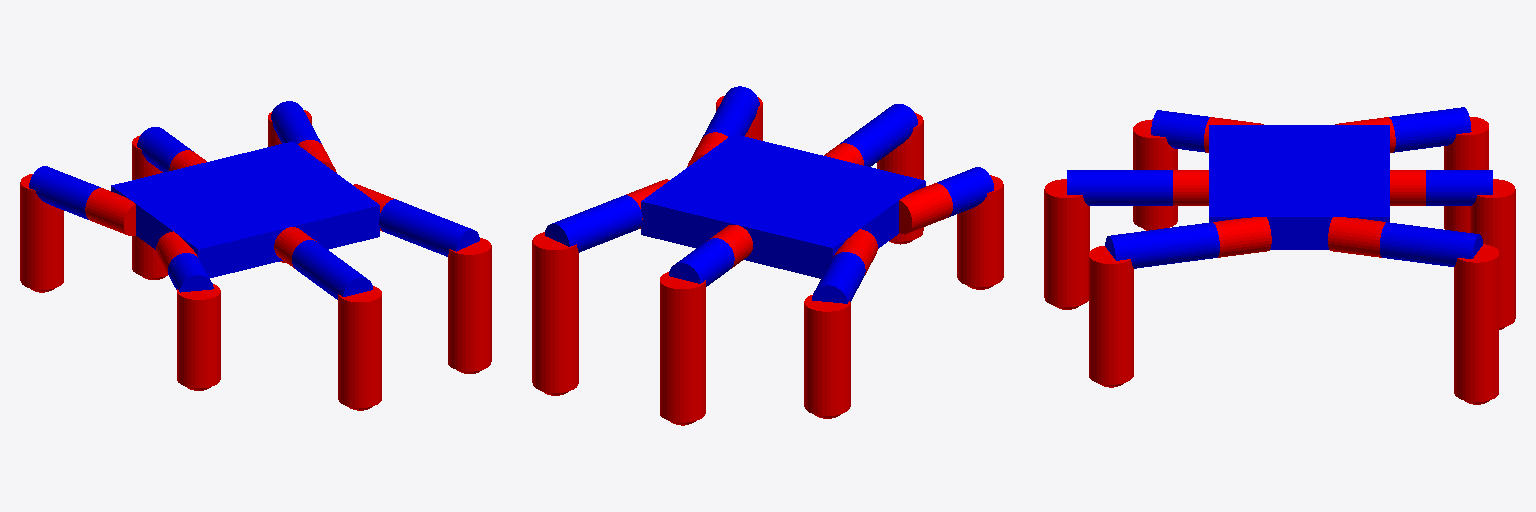
--- Facts derived from the render (not from the file) ---
3 views of the same robot in one strip: view 1: azimuth 30°, elevation 25°; view 2: azimuth 150°, elevation 25°; view 3: azimuth 270°, elevation 25° (orthographic).
Model pexod with 19 links and 18 joints (18 revolute), rooted at base_link, posed every joint at zero.
Links seen in each view (by area): view 1: base_link, leg_3_3, leg_4_3, leg_5_3, leg_0_3, leg_3_2, leg_4_2, leg_0_2, leg_0_1, leg_1_3, leg_2_2, leg_1_2 (+3 smaller); view 2: base_link, leg_2_3, leg_1_3, leg_0_3, leg_5_3, leg_2_2, leg_4_2, leg_5_1, leg_1_2, leg_0_2, leg_4_3, leg_3_2 (+3 smaller); view 3: base_link, leg_2_3, leg_3_3, leg_4_3, leg_1_3, leg_3_2, leg_4_2, leg_2_2, leg_5_3, leg_0_2, leg_0_3, leg_1_2 (+5 smaller).
Boxes of the visible links, x1,y1,x2,y2 form: base_link: (111, 141, 379, 277); leg_3_3: (448, 238, 491, 373); leg_4_3: (338, 286, 381, 410); leg_5_3: (177, 284, 220, 390); leg_0_3: (20, 174, 63, 292); leg_3_2: (379, 199, 479, 256); leg_4_2: (292, 240, 372, 299); leg_0_2: (29, 166, 100, 219); leg_0_1: (85, 188, 135, 235); leg_1_3: (132, 135, 167, 279); leg_2_2: (271, 101, 321, 144); leg_1_2: (137, 127, 193, 172); base_link: (641, 134, 925, 278); leg_2_3: (532, 232, 578, 395); leg_1_3: (660, 272, 705, 425); leg_0_3: (804, 295, 850, 418); leg_5_3: (957, 175, 1003, 289); leg_2_2: (545, 195, 641, 252); leg_4_2: (840, 104, 917, 166); leg_5_1: (899, 183, 952, 234); leg_1_2: (669, 238, 734, 286); leg_0_2: (812, 252, 865, 303); leg_4_3: (877, 112, 923, 244); leg_3_2: (702, 86, 759, 137); base_link: (1209, 125, 1389, 249); leg_2_3: (1454, 244, 1498, 404); leg_3_3: (1089, 246, 1133, 387); leg_4_3: (1044, 179, 1089, 309); leg_1_3: (1470, 179, 1515, 329); leg_3_2: (1105, 222, 1219, 268); leg_4_2: (1067, 170, 1172, 205); leg_2_2: (1380, 222, 1482, 266); leg_5_3: (1133, 119, 1177, 230); leg_0_2: (1389, 107, 1471, 152); leg_0_3: (1444, 116, 1488, 232); leg_1_2: (1426, 170, 1492, 205).
Bounding box of the posed robot: 0.3868 × 0.5212 × 0.2028 m (x, y, z).
Geometry: primitives only (box / cylinder / sphere), no mesh files.

robot.urdf — pexod:
<?xml version="1.0" ?>
<!-- =================================================================================== -->
<!-- |    This document was autogenerated by xacro from pexod.xacro                    | -->
<!-- |    EDITING THIS FILE BY HAND IS NOT RECOMMENDED                                 | -->
<!-- =================================================================================== -->
<robot name="pexod" xmlns:xacro="http://www.ros.org/wiki/xacro">
  <!-- <xacro:include filename="$(find pexod_description)/urdf/pexod_control.xacro" /> -->
  <!-- MATERIALS -->
  <material name="Blue">
    <color rgba="0 0 1 1"/>
  </material>
  <material name="Red">
    <color rgba="1 0 0 1"/>
  </material>
  <material name="Green">
    <color rgba="0 1 0 1"/>
  </material>
  <material name="Yellow">
    <color rgba="1 1 0 1"/>
  </material>
  <material name="LightGrey">
    <color rgba="0.6 0.6 0.6 1.0"/>
  </material>
  <!-- END OF MATERIALS -->
  <!-- XACRO MACROS FOR VISUALS AND COLLISIONS -->
  <!-- END OF XACRO MACROS -->
  <!-- TORSO -->
  <link name="base_link">
    <visual>
      <origin rpy="0 0 0" xyz="0 0 0"/>
      <geometry>
        <box size="0.24 0.2 0.04"/>
      </geometry>
      <material name="Blue"/>
    </visual>
    <collision>
      <origin rpy="0 0 0" xyz="0 0 0"/>
      <geometry>
        <box size="0.24 0.2 0.04"/>
      </geometry>
    </collision>
    <inertial>
      <!-- CENTER OF MASS -->
      <origin rpy="0 0 0" xyz="0 0 0"/>
      <mass value="1.031"/>
      <!-- box inertia: 1/12*m(y^2+z^2), ... -->
      <inertia ixx="0.00357413333333" ixy="0" ixz="0" iyy="0.00508626666667" iyz="0" izz="0.00838546666667"/>
    </inertial>
  </link>
  <!-- XACRO MACRO FOR LEGS LINKS/JOINTS -->
  <!-- END OF LEG LINKS/JOINTS -->
  <joint name="body_leg_2" type="revolute">
    <parent link="base_link"/>
    <child link="leg_2_1"/>
    <limit effort="30.0" lower="-1.57079632679" upper="1.57079632679" velocity="7.0"/>
    <origin rpy="0 0 -0.3" xyz="0.11 0.04 0"/>
    <!-- <xacro:if value="${index == 5 or index == 4 or index == 3}">
                <axis xyz="0 0 1"/>
            </xacro:if>
            <xacro:if value="${index == 2 or index == 1 or index == 0}"> -->
    <axis xyz="0 0 1"/>
    <!-- </xacro:if> -->
    <dynamics damping="0.0"/>
  </joint>
  <link name="leg_2_1">
    <visual>
      <origin rpy="1.57079632679 0 0" xyz="0.01 0.03 0"/>
      <geometry>
        <cylinder length="0.06" radius="0.02"/>
      </geometry>
      <material name="Red"/>
    </visual>
    <collision>
      <origin rpy="1.57079632679 0 0" xyz="0.01 0.03 0"/>
      <geometry>
        <box size="0.02 0.02 0.06"/>
      </geometry>
    </collision>
    <inertial>
      <!-- CENTER OF MASS -->
      <origin rpy="1.57079632679 0 0" xyz="0.01 0.03 0"/>
      <mass value="0.02"/>
      <!-- box inertia: 1/12*m(y^2+z^2), ... -->
      <inertia ixx="6.66666666667e-06" ixy="0" ixz="0" iyy="6.66666666667e-06" iyz="0" izz="1.33333333333e-06"/>
    </inertial>
  </link>
  <joint name="leg_2_1_2" type="revolute">
    <parent link="leg_2_1"/>
    <child link="leg_2_2"/>
    <limit effort="30.0" lower="-0.78539816339" upper="0.78539816339" velocity="7.0"/>
    <origin rpy="0 0 0" xyz="0 0.06 0"/>
    <axis xyz="1 0 0"/>
    <dynamics damping="0.0"/>
  </joint>
  <link name="leg_2_2">
    <visual>
      <origin rpy="1.57079632679 0 0" xyz="0.01 0.0535875029155 0"/>
      <geometry>
        <cylinder length="0.107175005831" radius="0.02"/>
      </geometry>
      <material name="Blue"/>
    </visual>
    <collision>
      <origin rpy="1.57079632679 0 0" xyz="0.01 0.0535875029155 0"/>
      <geometry>
        <box size="0.02 0.02 0.107175005831"/>
      </geometry>
    </collision>
    <inertial>
      <!-- CENTER OF MASS -->
      <origin rpy="1.57079632679 0 0" xyz="0.01 0.0535875029155 0"/>
      <mass value="0.184"/>
      <!-- box inertia: 1/12*m(y^2+z^2), ... -->
      <inertia ixx="0.000182259388748" ixy="0" ixz="0" iyy="0.000182259388748" iyz="0" izz="1.22666666667e-05"/>
    </inertial>
  </link>
  <joint name="leg_2_2_3" type="revolute">
    <parent link="leg_2_2"/>
    <child link="leg_2_3"/>
    <limit effort="30.0" lower="-0.78539816339" upper="0.78539816339" velocity="7.0"/>
    <origin rpy="-1.57079632679 0 0" xyz="0 0.107175005831 0"/>
    <axis xyz="-1 0 0"/>
    <dynamics damping="0.0"/>
  </joint>
  <link name="leg_2_3">
    <visual>
      <origin rpy="1.57079632679 0 0" xyz="0.0125 0.0851546288125 0"/>
      <geometry>
        <cylinder length="0.170309257625" radius="0.025"/>
      </geometry>
      <material name="Red"/>
    </visual>
    <visual>
      <origin rpy="1.57079632679 0 0" xyz="0.0125 0.157809257625 0"/>
      <geometry>
        <sphere radius="0.025"/>
      </geometry>
      <material name="Red"/>
    </visual>
    <collision>
      <origin rpy="1.57079632679 0 0" xyz="0.0125 0.0851546288125 0"/>
      <geometry>
        <box size="0.025 0.025 0.170309257625"/>
      </geometry>
    </collision>
    <collision>
      <origin rpy="1.57079632679 0 0" xyz="0.0125 0.157809257625 0"/>
      <geometry>
        <sphere radius="0.025"/>
      </geometry>
      <material name="Red"/>
    </collision>
    <inertial>
      <!-- CENTER OF MASS -->
      <origin rpy="1.57079632679 0 0" xyz="0.0125 0.0851546288125 0"/>
      <mass value="0.04"/>
      <!-- box inertia: 1/12*m(y^2+z^2), ... -->
      <inertia ixx="9.87674774426e-05" ixy="0" ixz="0" iyy="9.87674774426e-05" iyz="0" izz="4.16666666667e-06"/>
    </inertial>
  </link>
  <joint name="body_leg_3" type="revolute">
    <parent link="base_link"/>
    <child link="leg_3_1"/>
    <limit effort="30.0" lower="-1.57079632679" upper="1.57079632679" velocity="7.0"/>
    <origin rpy="0 0 0.3" xyz="0.11 -0.04 0"/>
    <!-- <xacro:if value="${index == 5 or index == 4 or index == 3}">
                <axis xyz="0 0 1"/>
            </xacro:if>
            <xacro:if value="${index == 2 or index == 1 or index == 0}"> -->
    <axis xyz="0 0 1"/>
    <!-- </xacro:if> -->
    <dynamics damping="0.0"/>
  </joint>
  <link name="leg_3_1">
    <visual>
      <origin rpy="1.57079632679 0 0" xyz="0.01 -0.03 0"/>
      <geometry>
        <cylinder length="0.06" radius="0.02"/>
      </geometry>
      <material name="Red"/>
    </visual>
    <collision>
      <origin rpy="1.57079632679 0 0" xyz="0.01 -0.03 0"/>
      <geometry>
        <box size="0.02 0.02 0.06"/>
      </geometry>
    </collision>
    <inertial>
      <!-- CENTER OF MASS -->
      <origin rpy="1.57079632679 0 0" xyz="0.01 -0.03 0"/>
      <mass value="0.02"/>
      <!-- box inertia: 1/12*m(y^2+z^2), ... -->
      <inertia ixx="6.66666666667e-06" ixy="0" ixz="0" iyy="6.66666666667e-06" iyz="0" izz="1.33333333333e-06"/>
    </inertial>
  </link>
  <joint name="leg_3_1_2" type="revolute">
    <parent link="leg_3_1"/>
    <child link="leg_3_2"/>
    <limit effort="30.0" lower="-0.78539816339" upper="0.78539816339" velocity="7.0"/>
    <origin rpy="0 0 0" xyz="0 -0.06 0"/>
    <axis xyz="-1 0 0"/>
    <dynamics damping="0.0"/>
  </joint>
  <link name="leg_3_2">
    <visual>
      <origin rpy="1.57079632679 0 0" xyz="0.01 -0.0602308605965 0"/>
      <geometry>
        <cylinder length="0.120461721193" radius="0.02"/>
      </geometry>
      <material name="Blue"/>
    </visual>
    <collision>
      <origin rpy="1.57079632679 0 0" xyz="0.01 -0.0602308605965 0"/>
      <geometry>
        <box size="0.02 0.02 0.120461721193"/>
      </geometry>
    </collision>
    <inertial>
      <!-- CENTER OF MASS -->
      <origin rpy="1.57079632679 0 0" xyz="0.01 -0.0602308605965 0"/>
      <mass value="0.184"/>
      <!-- box inertia: 1/12*m(y^2+z^2), ... -->
      <inertia ixx="0.000228635736183" ixy="0" ixz="0" iyy="0.000228635736183" iyz="0" izz="1.22666666667e-05"/>
    </inertial>
  </link>
  <joint name="leg_3_2_3" type="revolute">
    <parent link="leg_3_2"/>
    <child link="leg_3_3"/>
    <limit effort="30.0" lower="-0.78539816339" upper="0.78539816339" velocity="7.0"/>
    <origin rpy="1.57079632679 0 0" xyz="0 -0.120461721193 0"/>
    <axis xyz="1 0 0"/>
    <dynamics damping="0.0"/>
  </joint>
  <link name="leg_3_3">
    <visual>
      <origin rpy="1.57079632679 0 0" xyz="0.0125 -0.0736898227685 0"/>
      <geometry>
        <cylinder length="0.147379645537" radius="0.025"/>
      </geometry>
      <material name="Red"/>
    </visual>
    <visual>
      <origin rpy="1.57079632679 0 0" xyz="0.0125 -0.134879645537 0"/>
      <geometry>
        <sphere radius="0.025"/>
      </geometry>
      <material name="Red"/>
    </visual>
    <collision>
      <origin rpy="1.57079632679 0 0" xyz="0.0125 -0.0736898227685 0"/>
      <geometry>
        <box size="0.025 0.025 0.147379645537"/>
      </geometry>
    </collision>
    <collision>
      <origin rpy="1.57079632679 0 0" xyz="0.0125 -0.134879645537 0"/>
      <geometry>
        <sphere radius="0.025"/>
      </geometry>
      <material name="Red"/>
    </collision>
    <inertial>
      <!-- CENTER OF MASS -->
      <origin rpy="1.57079632679 0 0" xyz="0.0125 -0.0736898227685 0"/>
      <mass value="0.04"/>
      <!-- box inertia: 1/12*m(y^2+z^2), ... -->
      <inertia ixx="7.44858663954e-05" ixy="0" ixz="0" iyy="7.44858663954e-05" iyz="0" izz="4.16666666667e-06"/>
    </inertial>
  </link>
  <joint name="body_leg_0" type="revolute">
    <parent link="base_link"/>
    <child link="leg_0_1"/>
    <limit effort="30.0" lower="-1.57079632679" upper="1.57079632679" velocity="7.0"/>
    <origin rpy="0 0 0.3" xyz="-0.13 0.04 0"/>
    <!-- <xacro:if value="${index == 5 or index == 4 or index == 3}">
                <axis xyz="0 0 1"/>
            </xacro:if>
            <xacro:if value="${index == 2 or index == 1 or index == 0}"> -->
    <axis xyz="0 0 1"/>
    <!-- </xacro:if> -->
    <dynamics damping="0.0"/>
  </joint>
  <link name="leg_0_1">
    <visual>
      <origin rpy="1.57079632679 0 0" xyz="0.01 0.03 0"/>
      <geometry>
        <cylinder length="0.06" radius="0.02"/>
      </geometry>
      <material name="Red"/>
    </visual>
    <collision>
      <origin rpy="1.57079632679 0 0" xyz="0.01 0.03 0"/>
      <geometry>
        <box size="0.02 0.02 0.06"/>
      </geometry>
    </collision>
    <inertial>
      <!-- CENTER OF MASS -->
      <origin rpy="1.57079632679 0 0" xyz="0.01 0.03 0"/>
      <mass value="0.02"/>
      <!-- box inertia: 1/12*m(y^2+z^2), ... -->
      <inertia ixx="6.66666666667e-06" ixy="0" ixz="0" iyy="6.66666666667e-06" iyz="0" izz="1.33333333333e-06"/>
    </inertial>
  </link>
  <joint name="leg_0_1_2" type="revolute">
    <parent link="leg_0_1"/>
    <child link="leg_0_2"/>
    <limit effort="30.0" lower="-0.78539816339" upper="0.78539816339" velocity="7.0"/>
    <origin rpy="0 0 0" xyz="0 0.06 0"/>
    <axis xyz="1 0 0"/>
    <dynamics damping="0.0"/>
  </joint>
  <link name="leg_0_2">
    <visual>
      <origin rpy="1.57079632679 0 0" xyz="0.01 0.0438803386066 0"/>
      <geometry>
        <cylinder length="0.0877606772131" radius="0.02"/>
      </geometry>
      <material name="Blue"/>
    </visual>
    <collision>
      <origin rpy="1.57079632679 0 0" xyz="0.01 0.0438803386066 0"/>
      <geometry>
        <box size="0.02 0.02 0.0877606772131"/>
      </geometry>
    </collision>
    <inertial>
      <!-- CENTER OF MASS -->
      <origin rpy="1.57079632679 0 0" xyz="0.01 0.0438803386066 0"/>
      <mass value="0.184"/>
      <!-- box inertia: 1/12*m(y^2+z^2), ... -->
      <inertia ixx="0.000124229692462" ixy="0" ixz="0" iyy="0.000124229692462" iyz="0" izz="1.22666666667e-05"/>
    </inertial>
  </link>
  <joint name="leg_0_2_3" type="revolute">
    <parent link="leg_0_2"/>
    <child link="leg_0_3"/>
    <limit effort="30.0" lower="-0.78539816339" upper="0.78539816339" velocity="7.0"/>
    <origin rpy="-1.57079632679 0 0" xyz="0 0.0877606772131 0"/>
    <axis xyz="-1 0 0"/>
    <dynamics damping="0.0"/>
  </joint>
  <link name="leg_0_3">
    <visual>
      <origin rpy="1.57079632679 0 0" xyz="0.0125 0.062331074075 0"/>
      <geometry>
        <cylinder length="0.12466214815" radius="0.025"/>
      </geometry>
      <material name="Red"/>
    </visual>
    <visual>
      <origin rpy="1.57079632679 0 0" xyz="0.0125 0.11216214815 0"/>
      <geometry>
        <sphere radius="0.025"/>
      </geometry>
      <material name="Red"/>
    </visual>
    <collision>
      <origin rpy="1.57079632679 0 0" xyz="0.0125 0.062331074075 0"/>
      <geometry>
        <box size="0.025 0.025 0.12466214815"/>
      </geometry>
    </collision>
    <collision>
      <origin rpy="1.57079632679 0 0" xyz="0.0125 0.11216214815 0"/>
      <geometry>
        <sphere radius="0.025"/>
      </geometry>
      <material name="Red"/>
    </collision>
    <inertial>
      <!-- CENTER OF MASS -->
      <origin rpy="1.57079632679 0 0" xyz="0.0125 0.062331074075 0"/>
      <mass value="0.04"/>
      <!-- box inertia: 1/12*m(y^2+z^2), ... -->
      <inertia ixx="5.38855039379e-05" ixy="0" ixz="0" iyy="5.38855039379e-05" iyz="0" izz="4.16666666667e-06"/>
    </inertial>
  </link>
  <joint name="body_leg_5" type="revolute">
    <parent link="base_link"/>
    <child link="leg_5_1"/>
    <limit effort="30.0" lower="-1.57079632679" upper="1.57079632679" velocity="7.0"/>
    <origin rpy="0 0 -0.3" xyz="-0.13 -0.04 0"/>
    <!-- <xacro:if value="${index == 5 or index == 4 or index == 3}">
                <axis xyz="0 0 1"/>
            </xacro:if>
            <xacro:if value="${index == 2 or index == 1 or index == 0}"> -->
    <axis xyz="0 0 1"/>
    <!-- </xacro:if> -->
    <dynamics damping="0.0"/>
  </joint>
  <link name="leg_5_1">
    <visual>
      <origin rpy="1.57079632679 0 0" xyz="0.01 -0.03 0"/>
      <geometry>
        <cylinder length="0.06" radius="0.02"/>
      </geometry>
      <material name="Red"/>
    </visual>
    <collision>
      <origin rpy="1.57079632679 0 0" xyz="0.01 -0.03 0"/>
      <geometry>
        <box size="0.02 0.02 0.06"/>
      </geometry>
    </collision>
    <inertial>
      <!-- CENTER OF MASS -->
      <origin rpy="1.57079632679 0 0" xyz="0.01 -0.03 0"/>
      <mass value="0.02"/>
      <!-- box inertia: 1/12*m(y^2+z^2), ... -->
      <inertia ixx="6.66666666667e-06" ixy="0" ixz="0" iyy="6.66666666667e-06" iyz="0" izz="1.33333333333e-06"/>
    </inertial>
  </link>
  <joint name="leg_5_1_2" type="revolute">
    <parent link="leg_5_1"/>
    <child link="leg_5_2"/>
    <limit effort="30.0" lower="-0.78539816339" upper="0.78539816339" velocity="7.0"/>
    <origin rpy="0 0 0" xyz="0 -0.06 0"/>
    <axis xyz="-1 0 0"/>
    <dynamics damping="0.0"/>
  </joint>
  <link name="leg_5_2">
    <visual>
      <origin rpy="1.57079632679 0 0" xyz="0.01 -0.0306680265534 0"/>
      <geometry>
        <cylinder length="0.0613360531068" radius="0.02"/>
      </geometry>
      <material name="Blue"/>
    </visual>
    <collision>
      <origin rpy="1.57079632679 0 0" xyz="0.01 -0.0306680265534 0"/>
      <geometry>
        <box size="0.02 0.02 0.0613360531068"/>
      </geometry>
    </collision>
    <inertial>
      <!-- CENTER OF MASS -->
      <origin rpy="1.57079632679 0 0" xyz="0.01 -0.0306680265534 0"/>
      <mass value="0.184"/>
      <!-- box inertia: 1/12*m(y^2+z^2), ... -->
      <inertia ixx="6.3819041631e-05" ixy="0" ixz="0" iyy="6.3819041631e-05" iyz="0" izz="1.22666666667e-05"/>
    </inertial>
  </link>
  <joint name="leg_5_2_3" type="revolute">
    <parent link="leg_5_2"/>
    <child link="leg_5_3"/>
    <limit effort="30.0" lower="-0.78539816339" upper="0.78539816339" velocity="7.0"/>
    <origin rpy="1.57079632679 0 0" xyz="0 -0.0613360531068 0"/>
    <axis xyz="1 0 0"/>
    <dynamics damping="0.0"/>
  </joint>
  <link name="leg_5_3">
    <visual>
      <origin rpy="1.57079632679 0 0" xyz="0.0125 -0.0558074668075 0"/>
      <geometry>
        <cylinder length="0.111614933615" radius="0.025"/>
      </geometry>
      <material name="Red"/>
    </visual>
    <visual>
      <origin rpy="1.57079632679 0 0" xyz="0.0125 -0.099114933615 0"/>
      <geometry>
        <sphere radius="0.025"/>
      </geometry>
      <material name="Red"/>
    </visual>
    <collision>
      <origin rpy="1.57079632679 0 0" xyz="0.0125 -0.0558074668075 0"/>
      <geometry>
        <box size="0.025 0.025 0.111614933615"/>
      </geometry>
    </collision>
    <collision>
      <origin rpy="1.57079632679 0 0" xyz="0.0125 -0.099114933615 0"/>
      <geometry>
        <sphere radius="0.025"/>
      </geometry>
      <material name="Red"/>
    </collision>
    <inertial>
      <!-- CENTER OF MASS -->
      <origin rpy="1.57079632679 0 0" xyz="0.0125 -0.0558074668075 0"/>
      <mass value="0.04"/>
      <!-- box inertia: 1/12*m(y^2+z^2), ... -->
      <inertia ixx="4.36096446863e-05" ixy="0" ixz="0" iyy="4.36096446863e-05" iyz="0" izz="4.16666666667e-06"/>
    </inertial>
  </link>
  <joint name="body_leg_1" type="revolute">
    <parent link="base_link"/>
    <child link="leg_1_1"/>
    <limit effort="30.0" lower="-1.57079632679" upper="1.57079632679" velocity="7.0"/>
    <origin rpy="0 0 0" xyz="-0.01 0.08 0"/>
    <!-- <xacro:if value="${index == 5 or index == 4 or index == 3}">
                <axis xyz="0 0 1"/>
            </xacro:if>
            <xacro:if value="${index == 2 or index == 1 or index == 0}"> -->
    <axis xyz="0 0 1"/>
    <!-- </xacro:if> -->
    <dynamics damping="0.0"/>
  </joint>
  <link name="leg_1_1">
    <visual>
      <origin rpy="1.57079632679 0 0" xyz="0.01 0.03 0"/>
      <geometry>
        <cylinder length="0.06" radius="0.02"/>
      </geometry>
      <material name="Red"/>
    </visual>
    <collision>
      <origin rpy="1.57079632679 0 0" xyz="0.01 0.03 0"/>
      <geometry>
        <box size="0.02 0.02 0.06"/>
      </geometry>
    </collision>
    <inertial>
      <!-- CENTER OF MASS -->
      <origin rpy="1.57079632679 0 0" xyz="0.01 0.03 0"/>
      <mass value="0.02"/>
      <!-- box inertia: 1/12*m(y^2+z^2), ... -->
      <inertia ixx="6.66666666667e-06" ixy="0" ixz="0" iyy="6.66666666667e-06" iyz="0" izz="1.33333333333e-06"/>
    </inertial>
  </link>
  <joint name="leg_1_1_2" type="revolute">
    <parent link="leg_1_1"/>
    <child link="leg_1_2"/>
    <limit effort="30.0" lower="-0.78539816339" upper="0.78539816339" velocity="7.0"/>
    <origin rpy="0 0 0" xyz="0 0.06 0"/>
    <axis xyz="1 0 0"/>
    <dynamics damping="0.0"/>
  </joint>
  <link name="leg_1_2">
    <visual>
      <origin rpy="1.57079632679 0 0" xyz="0.01 0.0368441415827 0"/>
      <geometry>
        <cylinder length="0.0736882831653" radius="0.02"/>
      </geometry>
      <material name="Blue"/>
    </visual>
    <collision>
      <origin rpy="1.57079632679 0 0" xyz="0.01 0.0368441415827 0"/>
      <geometry>
        <box size="0.02 0.02 0.0736882831653"/>
      </geometry>
    </collision>
    <inertial>
      <!-- CENTER OF MASS -->
      <origin rpy="1.57079632679 0 0" xyz="0.01 0.0368441415827 0"/>
      <mass value="0.184"/>
      <!-- box inertia: 1/12*m(y^2+z^2), ... -->
      <inertia ixx="8.9392767163e-05" ixy="0" ixz="0" iyy="8.9392767163e-05" iyz="0" izz="1.22666666667e-05"/>
    </inertial>
  </link>
  <joint name="leg_1_2_3" type="revolute">
    <parent link="leg_1_2"/>
    <child link="leg_1_3"/>
    <limit effort="30.0" lower="-0.78539816339" upper="0.78539816339" velocity="7.0"/>
    <origin rpy="-1.57079632679 0 0" xyz="0 0.0736882831653 0"/>
    <axis xyz="-1 0 0"/>
    <dynamics damping="0.0"/>
  </joint>
  <link name="leg_1_3">
    <visual>
      <origin rpy="1.57079632679 0 0" xyz="0.0125 0.07955578057 0"/>
      <geometry>
        <cylinder length="0.15911156114" radius="0.025"/>
      </geometry>
      <material name="Red"/>
    </visual>
    <visual>
      <origin rpy="1.57079632679 0 0" xyz="0.0125 0.14661156114 0"/>
      <geometry>
        <sphere radius="0.025"/>
      </geometry>
      <material name="Red"/>
    </visual>
    <collision>
      <origin rpy="1.57079632679 0 0" xyz="0.0125 0.07955578057 0"/>
      <geometry>
        <box size="0.025 0.025 0.15911156114"/>
      </geometry>
    </collision>
    <collision>
      <origin rpy="1.57079632679 0 0" xyz="0.0125 0.14661156114 0"/>
      <geometry>
        <sphere radius="0.025"/>
      </geometry>
      <material name="Red"/>
    </collision>
    <inertial>
      <!-- CENTER OF MASS -->
      <origin rpy="1.57079632679 0 0" xyz="0.0125 0.07955578057 0"/>
      <mass value="0.04"/>
      <!-- box inertia: 1/12*m(y^2+z^2), ... -->
      <inertia ixx="8.6471629628e-05" ixy="0" ixz="0" iyy="8.6471629628e-05" iyz="0" izz="4.16666666667e-06"/>
    </inertial>
  </link>
  <joint name="body_leg_4" type="revolute">
    <parent link="base_link"/>
    <child link="leg_4_1"/>
    <limit effort="30.0" lower="-1.57079632679" upper="1.57079632679" velocity="7.0"/>
    <origin rpy="0 0 0" xyz="-0.01 -0.08 0"/>
    <!-- <xacro:if value="${index == 5 or index == 4 or index == 3}">
                <axis xyz="0 0 1"/>
            </xacro:if>
            <xacro:if value="${index == 2 or index == 1 or index == 0}"> -->
    <axis xyz="0 0 1"/>
    <!-- </xacro:if> -->
    <dynamics damping="0.0"/>
  </joint>
  <link name="leg_4_1">
    <visual>
      <origin rpy="1.57079632679 0 0" xyz="0.01 -0.03 0"/>
      <geometry>
        <cylinder length="0.06" radius="0.02"/>
      </geometry>
      <material name="Red"/>
    </visual>
    <collision>
      <origin rpy="1.57079632679 0 0" xyz="0.01 -0.03 0"/>
      <geometry>
        <box size="0.02 0.02 0.06"/>
      </geometry>
    </collision>
    <inertial>
      <!-- CENTER OF MASS -->
      <origin rpy="1.57079632679 0 0" xyz="0.01 -0.03 0"/>
      <mass value="0.02"/>
      <!-- box inertia: 1/12*m(y^2+z^2), ... -->
      <inertia ixx="6.66666666667e-06" ixy="0" ixz="0" iyy="6.66666666667e-06" iyz="0" izz="1.33333333333e-06"/>
    </inertial>
  </link>
  <joint name="leg_4_1_2" type="revolute">
    <parent link="leg_4_1"/>
    <child link="leg_4_2"/>
    <limit effort="30.0" lower="-0.78539816339" upper="0.78539816339" velocity="7.0"/>
    <origin rpy="0 0 0" xyz="0 -0.06 0"/>
    <axis xyz="-1 0 0"/>
    <dynamics damping="0.0"/>
  </joint>
  <link name="leg_4_2">
    <visual>
      <origin rpy="1.57079632679 0 0" xyz="0.01 -0.0587724409055 0"/>
      <geometry>
        <cylinder length="0.117544881811" radius="0.02"/>
      </geometry>
      <material name="Blue"/>
    </visual>
    <collision>
      <origin rpy="1.57079632679 0 0" xyz="0.01 -0.0587724409055 0"/>
      <geometry>
        <box size="0.02 0.02 0.117544881811"/>
      </geometry>
    </collision>
    <inertial>
      <!-- CENTER OF MASS -->
      <origin rpy="1.57079632679 0 0" xyz="0.01 -0.0587724409055 0"/>
      <mass value="0.184"/>
      <!-- box inertia: 1/12*m(y^2+z^2), ... -->
      <inertia ixx="0.000217990921679" ixy="0" ixz="0" iyy="0.000217990921679" iyz="0" izz="1.22666666667e-05"/>
    </inertial>
  </link>
  <joint name="leg_4_2_3" type="revolute">
    <parent link="leg_4_2"/>
    <child link="leg_4_3"/>
    <limit effort="30.0" lower="-0.78539816339" upper="0.78539816339" velocity="7.0"/>
    <origin rpy="1.57079632679 0 0" xyz="0 -0.117544881811 0"/>
    <axis xyz="1 0 0"/>
    <dynamics damping="0.0"/>
  </joint>
  <link name="leg_4_3">
    <visual>
      <origin rpy="1.57079632679 0 0" xyz="0.0125 -0.066658640158 0"/>
      <geometry>
        <cylinder length="0.133317280316" radius="0.025"/>
      </geometry>
      <material name="Red"/>
    </visual>
    <visual>
      <origin rpy="1.57079632679 0 0" xyz="0.0125 -0.120817280316 0"/>
      <geometry>
        <sphere radius="0.025"/>
      </geometry>
      <material name="Red"/>
    </visual>
    <collision>
      <origin rpy="1.57079632679 0 0" xyz="0.0125 -0.066658640158 0"/>
      <geometry>
        <box size="0.025 0.025 0.133317280316"/>
      </geometry>
    </collision>
    <collision>
      <origin rpy="1.57079632679 0 0" xyz="0.0125 -0.120817280316 0"/>
      <geometry>
        <sphere radius="0.025"/>
      </geometry>
      <material name="Red"/>
    </collision>
    <inertial>
      <!-- CENTER OF MASS -->
      <origin rpy="1.57079632679 0 0" xyz="0.0125 -0.066658640158 0"/>
      <mass value="0.04"/>
      <!-- box inertia: 1/12*m(y^2+z^2), ... -->
      <inertia ixx="6.13283241028e-05" ixy="0" ixz="0" iyy="6.13283241028e-05" iyz="0" izz="4.16666666667e-06"/>
    </inertial>
  </link>
  <!-- END OF LEG LINKS/JOINTS -->
</robot>
